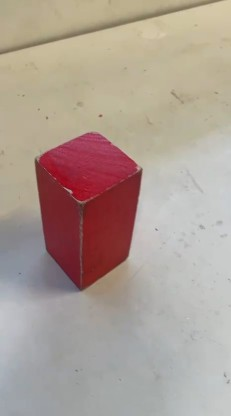red: (48, 131, 136, 277)
